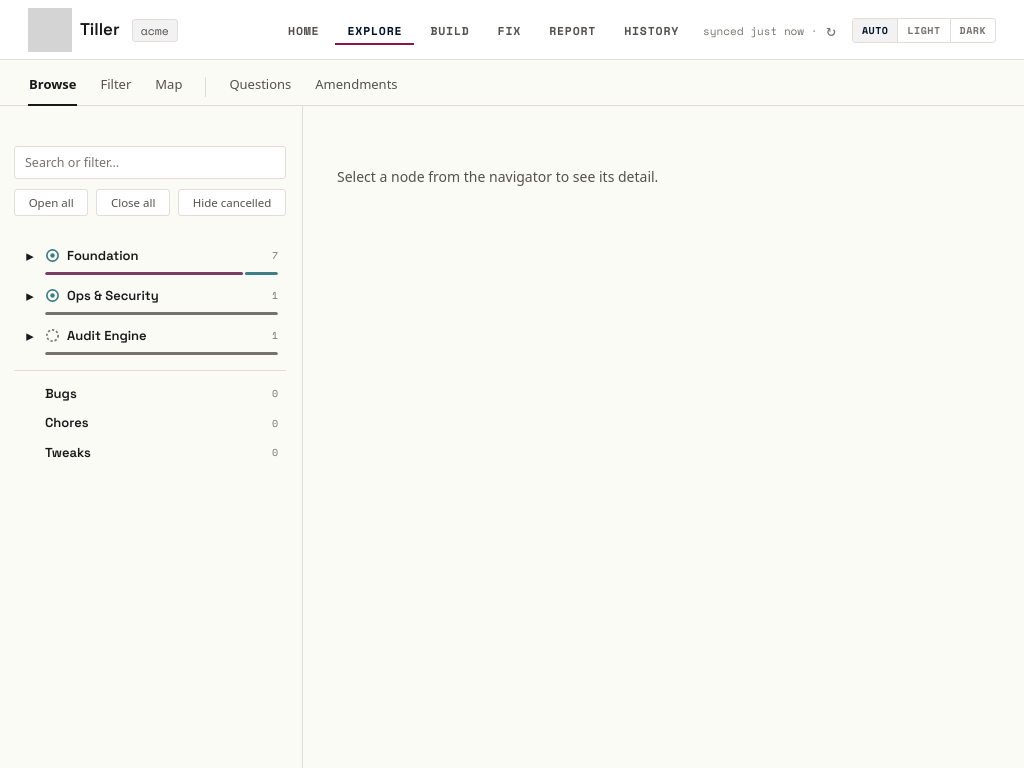
Test: Navigator + reading pane: selecting a node routes and renders NodeDetail › navigates to /node/feature/:id and renders the selected node through NodeDetail
Expected: the link "Foundation" is shown, [67, 247, 138, 264]
Click the button named "Expand Foundation" at (30, 256), box [22, 245, 38, 267]
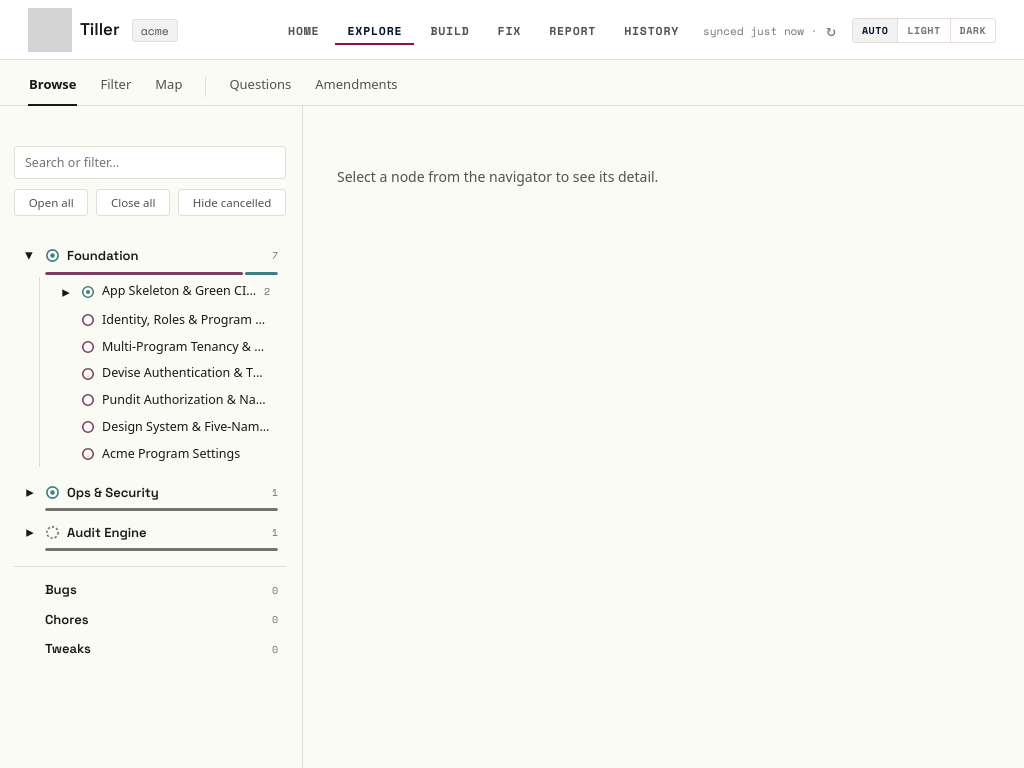
Click the link "App Skeleton & Green CI Boot" at (179, 292), box [102, 282, 257, 301]
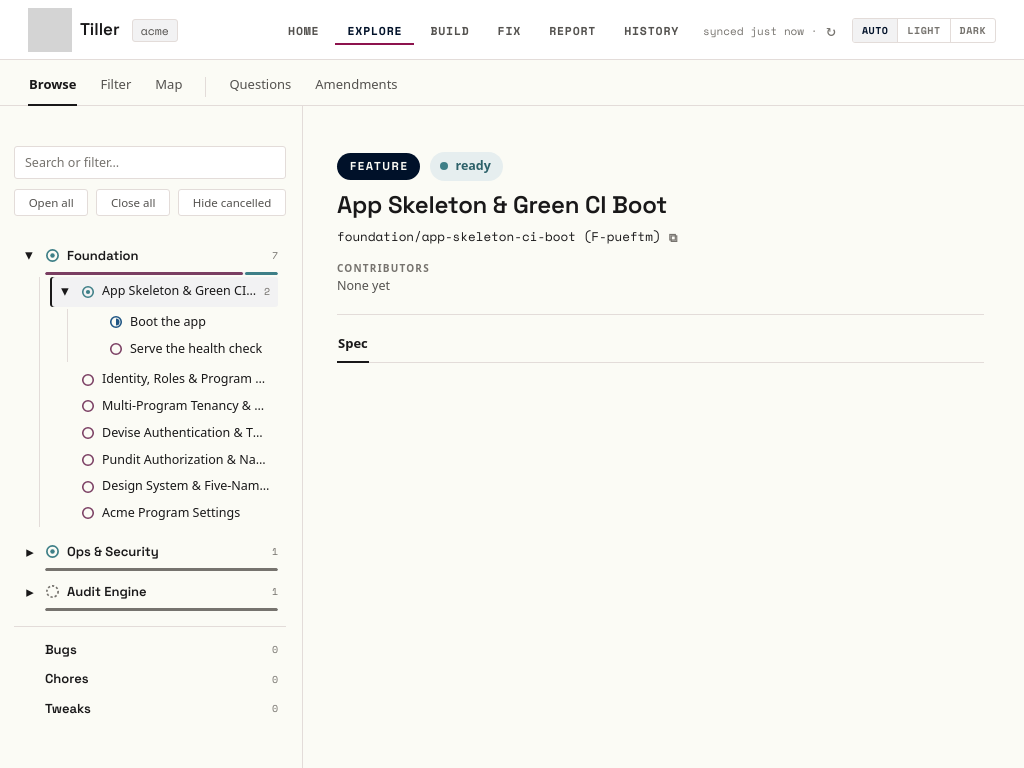
Now the heading "App Skeleton & Green CI Boot" is shown, box [337, 188, 667, 220]
Now the text "foundation/app-skeleton-ci-boot (F-pueftm)" is shown, box [337, 228, 661, 247]
